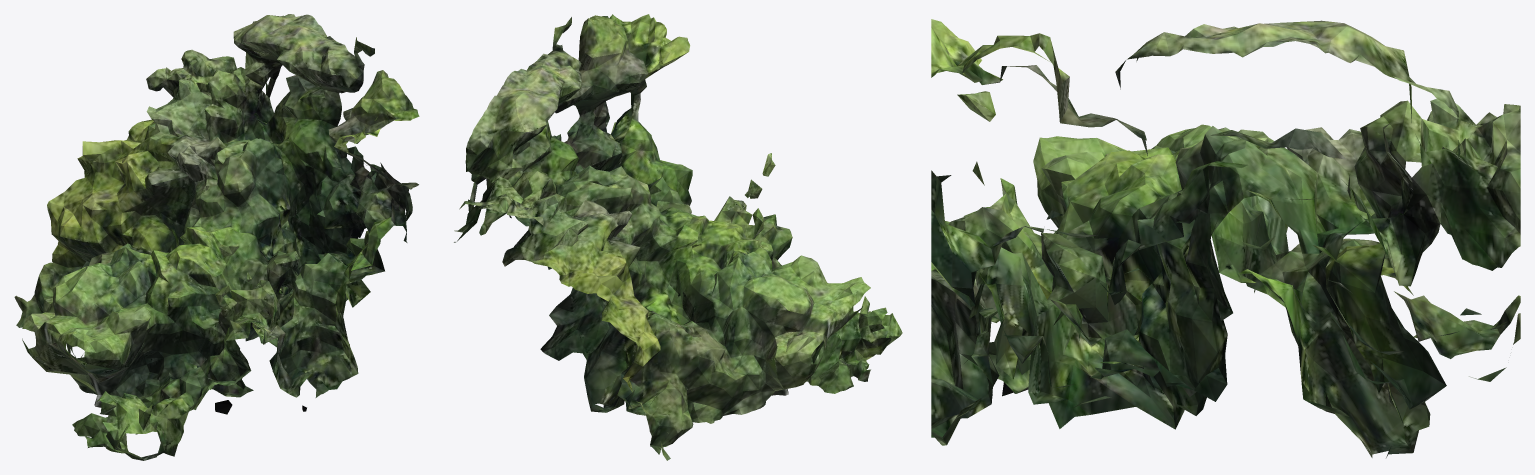
3 renders of one model, left to right at view 1: azimuth 30°, elevation 25°; view 2: azimuth 150°, elevation 25°; view 3: azimuth 270°, elevation 25°, orthographic. The views are drawn at different scales.
Bounding box in the file's own units: 26.11 × 26.11 × 26.11.
7 materials, 7 textured.
